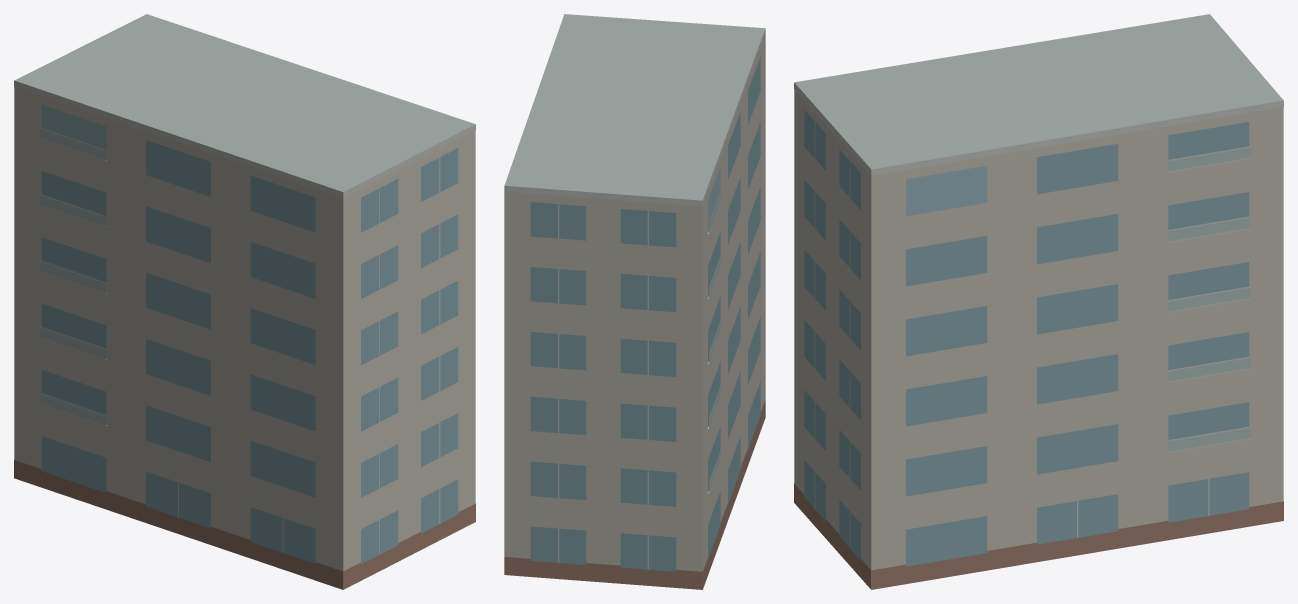
The model's file is survey-upis-32889251.glb.
3 views of the same model, side by side, from view 1: azimuth 30°, elevation 25°; view 2: azimuth 150°, elevation 25°; view 3: azimuth 270°, elevation 25° (orthographic). The views are drawn at different scales.
Visible parts, largest first — view 1: survey-upis-32889251.tmp; view 2: survey-upis-32889251.tmp; view 3: survey-upis-32889251.tmp.
Boxes of the visible parts, box(x1,y1,x2,y2) form: survey-upis-32889251.tmp: box(14, 14, 475, 589); survey-upis-32889251.tmp: box(504, 14, 765, 589); survey-upis-32889251.tmp: box(794, 14, 1283, 589).
Bounding box in the file's own units: 12.62 × 15.9 × 16.79.
